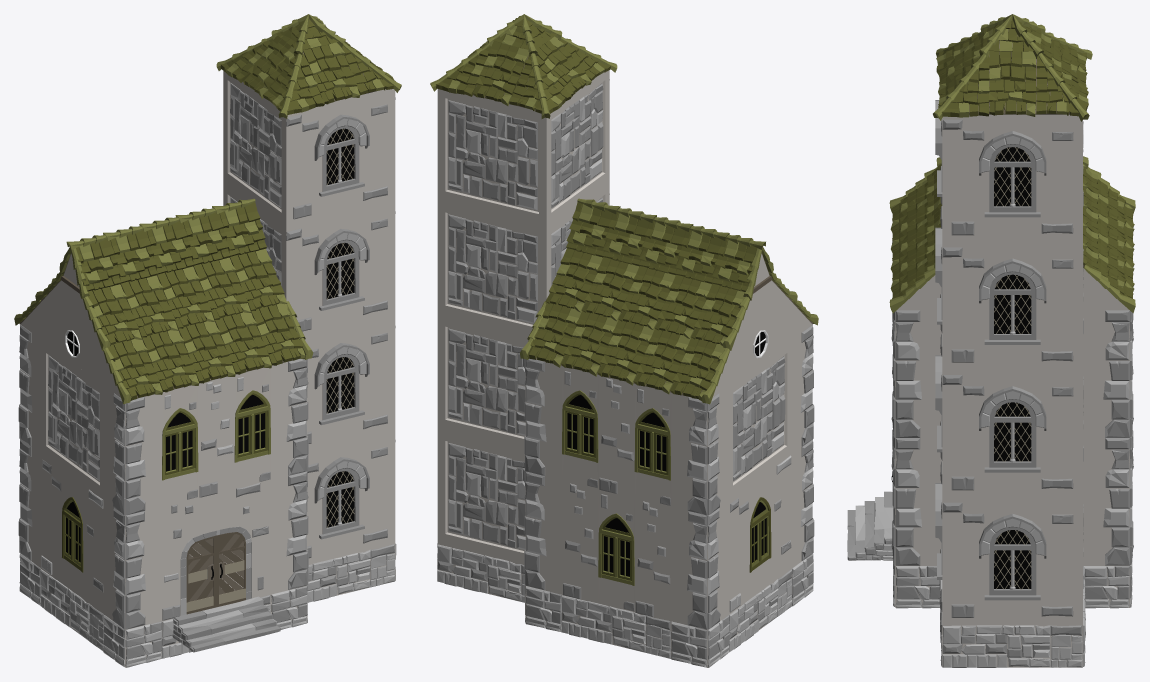
The model's file is HOUSE_4.fbx.
3 views of the same model, side by side, from view 1: azimuth 30°, elevation 25°; view 2: azimuth 150°, elevation 25°; view 3: azimuth 270°, elevation 25° (orthographic). The views are drawn at different scales.
Visible parts, largest first — view 1: DOOR_02_2, WINDOW_03_22, WINDOW_03_23, WINDOW_03_25, WINDOW_03_24, WALL_02_2, WINDOW_02_2, WALL_02_7, WINDOW_01_02, WALL_07_2, WALL_05_2, WALL_06_3 (+41 smaller); view 2: WALL_02_6, WALL_02_5, WALL_02_3, WALL_02_4, WINDOW_02_2, WALL_02_2, WALL_02_7, WALL_05_9, WALL_05_8, WALL_06_6, WALL_06_5, FOUNDATION_03_6 (+42 smaller); view 3: WINDOW_03_18, WINDOW_03_19, WINDOW_03_20, WINDOW_03_21, FOUNDATION_03_4, WALL_07_8, WALL_07_7, WALL_05_7, WALL_05_6, ROOF_BASE_23, STAIRS_03_2, ROOF_CORNER_OUT_5 (+32 smaller).
Part boxes in pixels (<box>): DOOR_02_2: <box>161,480,270,620</box>; WINDOW_03_22: <box>286,89,395,226</box>; WINDOW_03_23: <box>286,201,395,336</box>; WINDOW_03_25: <box>307,429,395,564</box>; WINDOW_03_24: <box>305,315,395,449</box>; WALL_02_2: <box>41,340,104,499</box>; WINDOW_02_2: <box>41,454,104,613</box>; WALL_02_7: <box>223,71,289,227</box>; WINDOW_01_02: <box>161,385,198,506</box>; WALL_07_2: <box>271,471,307,593</box>; WALL_05_2: <box>125,506,161,629</box>; WALL_06_3: <box>198,376,234,497</box>; WALL_02_6: <box>437,89,547,226</box>; WALL_02_5: <box>437,201,546,336</box>; WALL_02_3: <box>437,429,525,564</box>; WALL_02_4: <box>437,315,528,450</box>; WINDOW_02_2: <box>728,454,791,613</box>; WALL_02_2: <box>728,340,791,499</box>; WALL_02_7: <box>543,70,609,227</box>; WALL_05_9: <box>525,471,562,594</box>; WALL_05_8: <box>525,358,562,479</box>; WALL_06_6: <box>635,498,671,620</box>; WALL_06_5: <box>562,480,598,603</box>; FOUNDATION_03_6: <box>562,594,671,658</box>; WINDOW_03_18: <box>942,497,1082,624</box>; WINDOW_03_19: <box>942,369,1082,497</box>; WINDOW_03_20: <box>942,242,1082,369</box>; WINDOW_03_21: <box>942,114,1082,241</box>; FOUNDATION_03_4: <box>942,625,1082,667</box>; WALL_07_8: <box>1083,438,1129,565</box>; WALL_07_7: <box>1083,310,1129,437</box>; WALL_05_7: <box>895,310,941,437</box>; WALL_05_6: <box>895,438,941,565</box>; ROOF_BASE_23: <box>988,49,1036,116</box>; STAIRS_03_2: <box>847,491,893,560</box>; ROOF_CORNER_OUT_5: <box>933,51,989,120</box>.
Bounding box in the file's own units: 835 × 1466 × 615.
